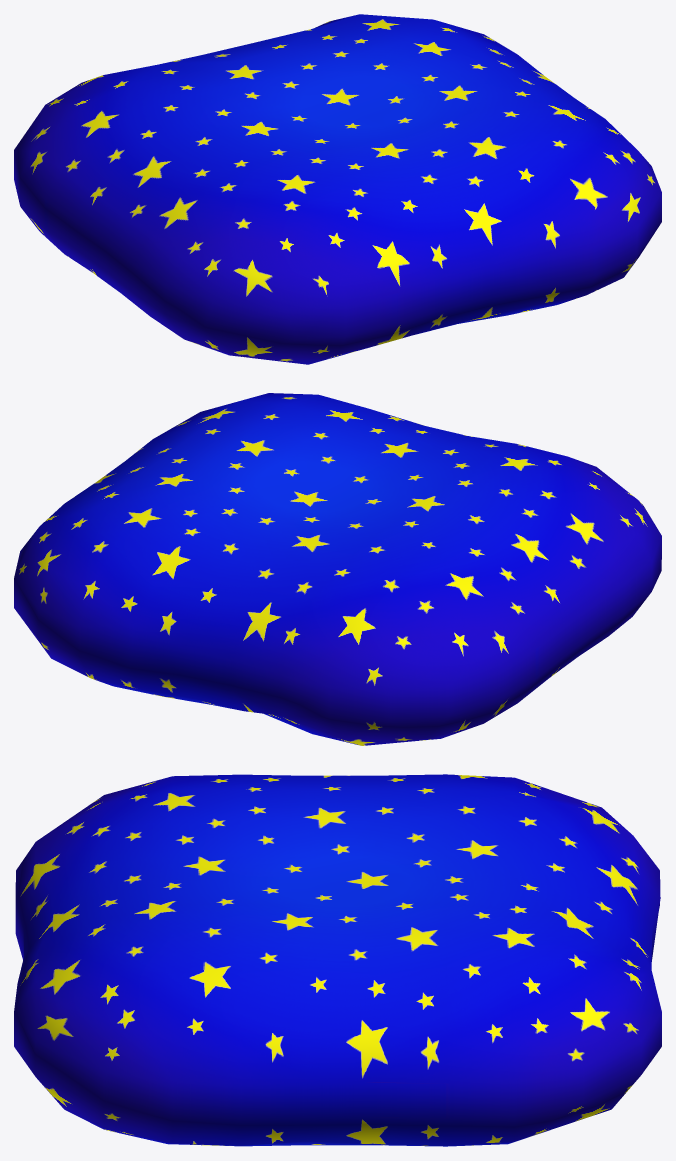
The model's file is FloorB.glb.
3 renders of one model, top to bottom at view 1: azimuth 30°, elevation 25°; view 2: azimuth 150°, elevation 25°; view 3: azimuth 270°, elevation 25°, orthographic. The views are drawn at different scales.
Parts seen in each view (by area): view 1: Mball.005; view 2: Mball.005; view 3: Mball.005.
Boxes of the visible parts, x1=… form: Mball.005: x1=14, y1=14, x2=661, y2=364; Mball.005: x1=14, y1=393, x2=661, y2=745; Mball.005: x1=14, y1=774, x2=661, y2=1146.
Size of the model in its own units: 29.71 by 9.83 by 29.11.
Materials: 1 (1 with a texture image).
